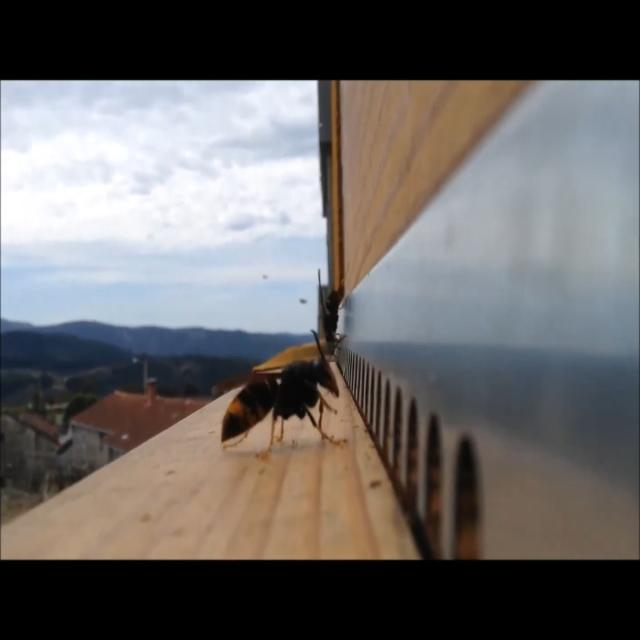Hornets: (216, 326, 350, 454)
